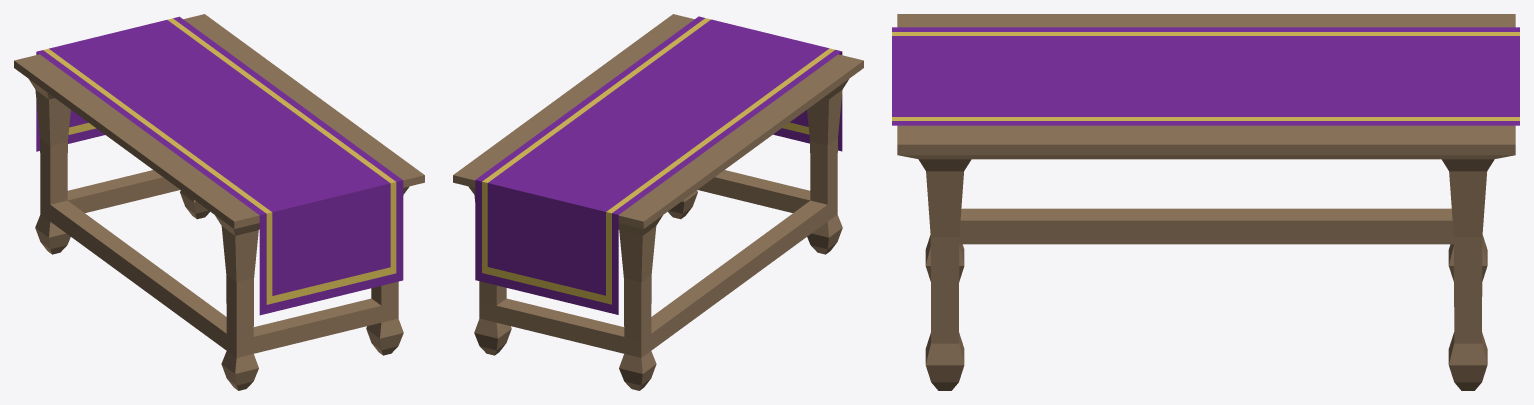
File: PotionTable.fbx
3 renders of one model, left to right at view 1: azimuth 30°, elevation 25°; view 2: azimuth 150°, elevation 25°; view 3: azimuth 270°, elevation 25°, orthographic. The views are drawn at different scales.
Visible parts, largest first — view 1: Plane; view 2: Plane; view 3: Plane.
Part boxes in pixels (bbox=[...]): Plane: bbox=[14, 14, 424, 390]; Plane: bbox=[453, 14, 863, 390]; Plane: bbox=[892, 14, 1519, 390].
Size of the model in its own units: 214 by 201 by 435.
